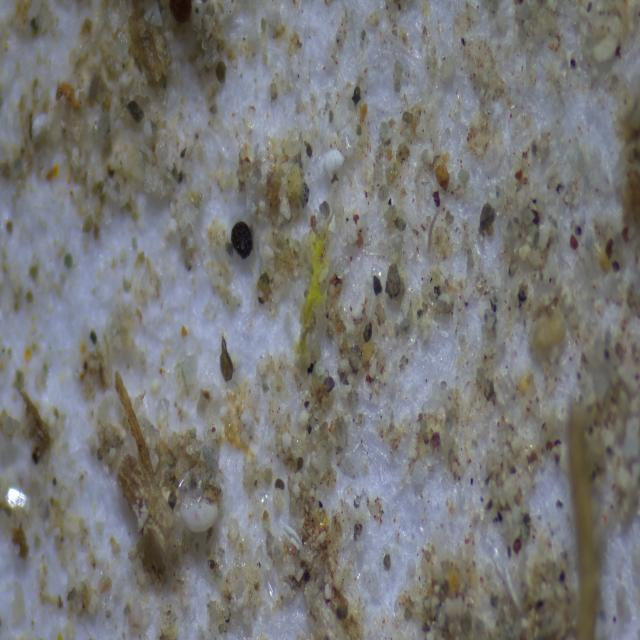microplastic: (289, 212, 337, 375)
